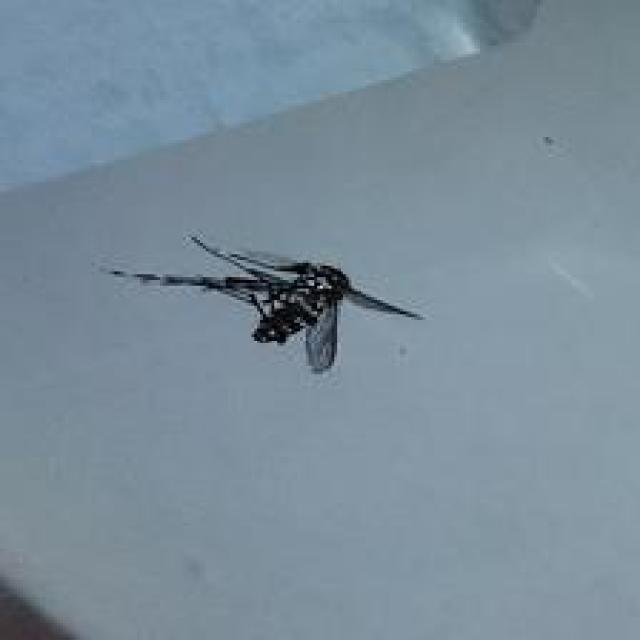Aedes albopictus: (99, 232, 424, 374)
